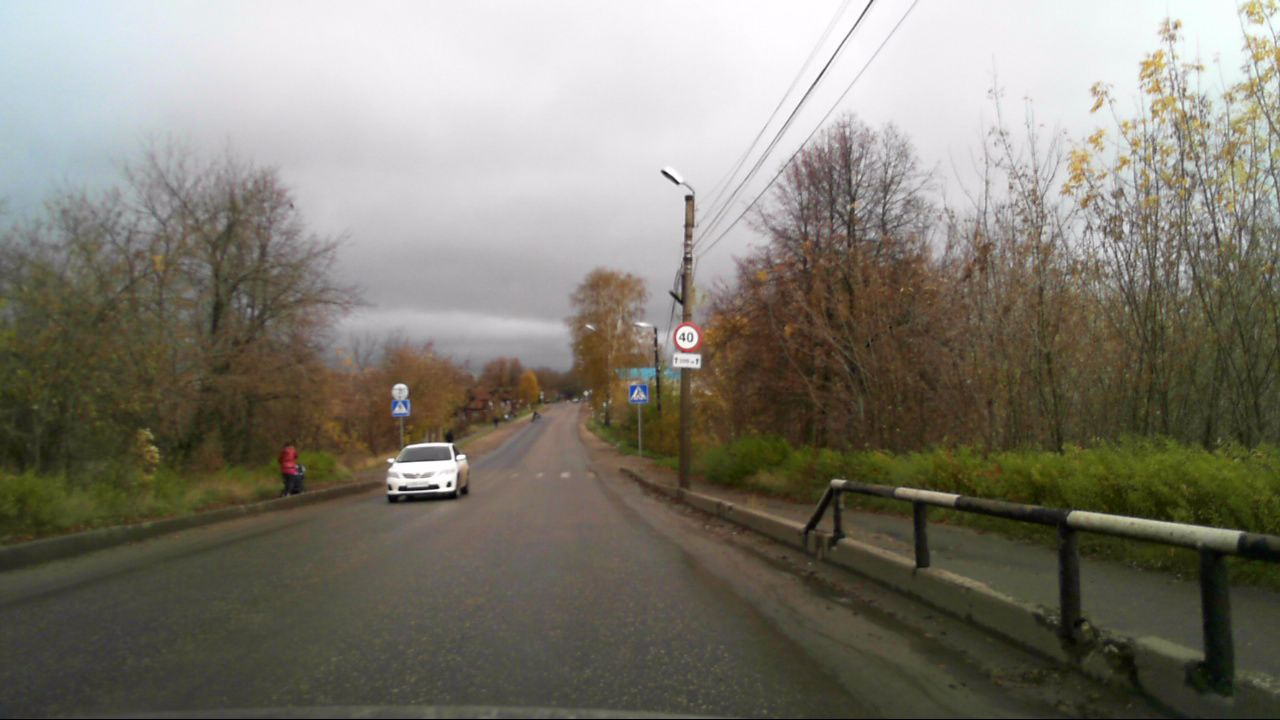speed_warning_40: (673, 321, 703, 351)
